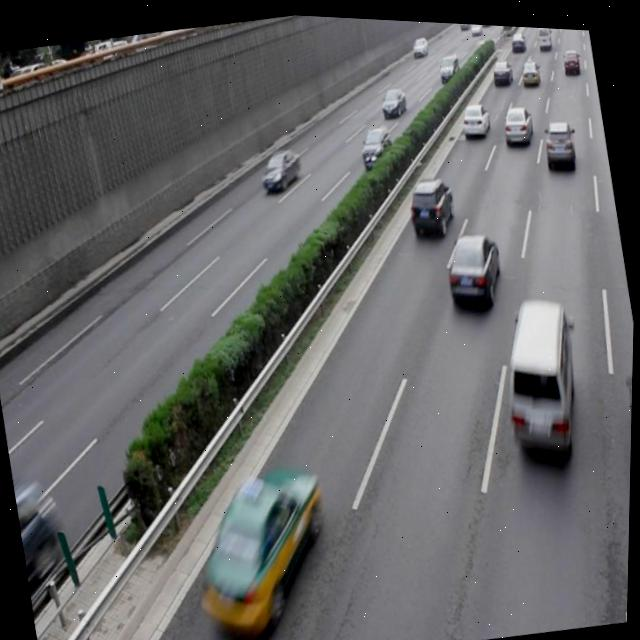car: (180, 452, 345, 640), (12, 472, 72, 609), (438, 222, 507, 307), (403, 167, 458, 235), (256, 143, 305, 193), (618, 356, 634, 500), (538, 111, 577, 167), (354, 117, 394, 165), (498, 96, 536, 143), (457, 93, 493, 137)
truck: (487, 282, 592, 459)
